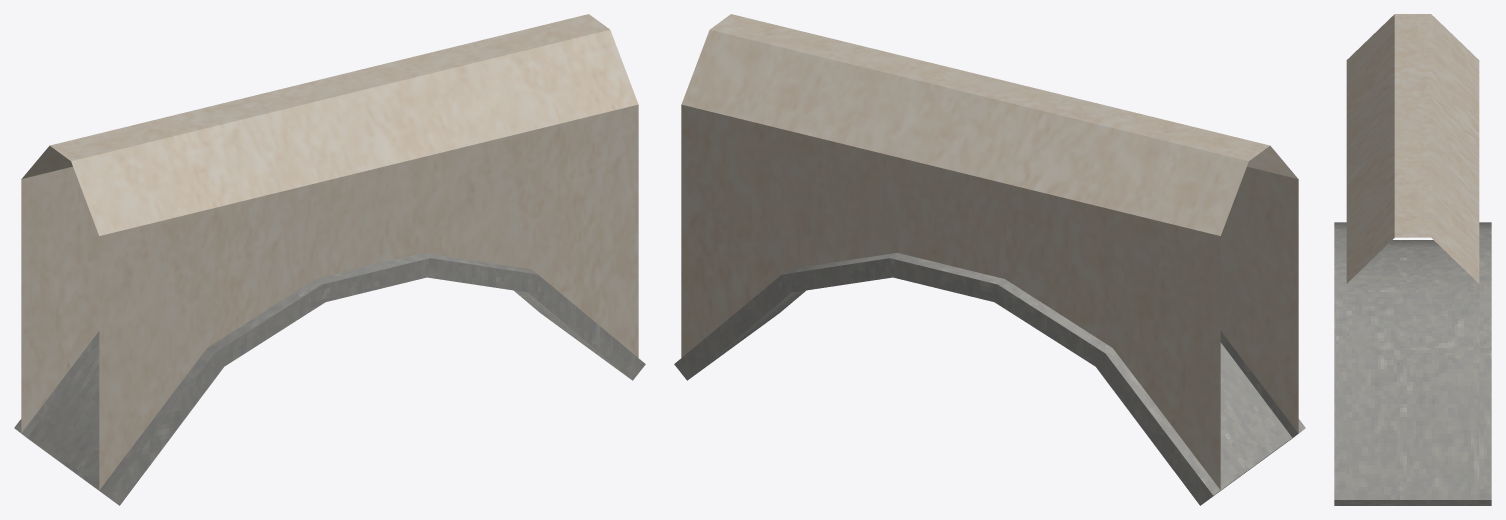
File: GJ_Arch_02.fbx
3 renders of one model, left to right at view 1: azimuth 30°, elevation 25°; view 2: azimuth 150°, elevation 25°; view 3: azimuth 270°, elevation 25°, orthographic. The views are drawn at different scales.
Parts seen in each view (by area): view 1: GJ_Arch_02; view 2: GJ_Arch_02; view 3: GJ_Arch_02.
Boxes of the visible parts, box(x1,y1,x2,y2) form: GJ_Arch_02: box(14, 14, 645, 505); GJ_Arch_02: box(674, 14, 1305, 505); GJ_Arch_02: box(1334, 14, 1491, 505).
Bounding box in the file's own units: 200 × 114 × 59.44.
